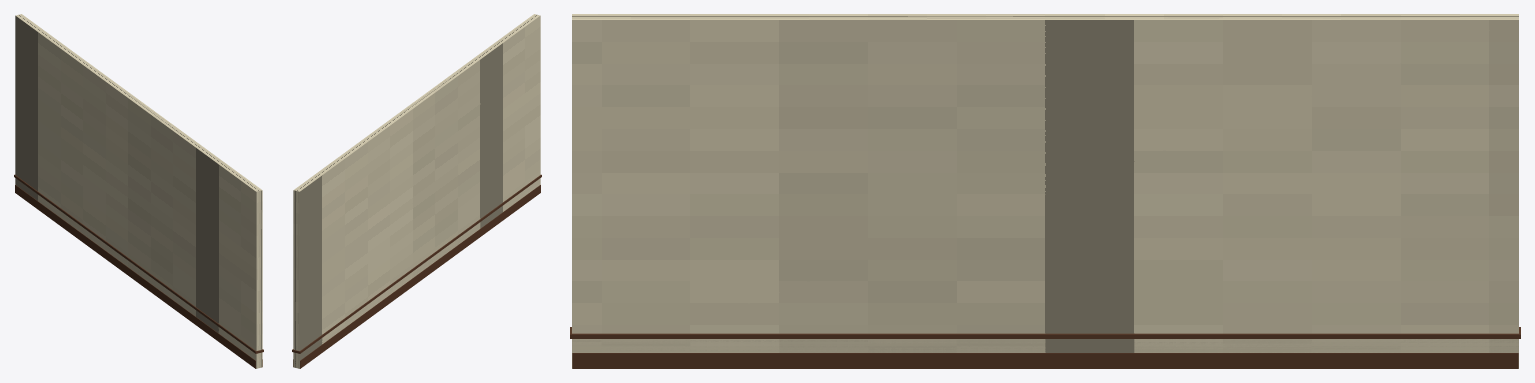
The model's file is wing_a.glb.
3 renders of one model, left to right at view 1: azimuth 30°, elevation 25°; view 2: azimuth 150°, elevation 25°; view 3: azimuth 270°, elevation 25°, orthographic. The views are drawn at different scales.
Parts seen in each view (by area): view 1: Box1, Box2, Box3, Box4; view 2: Box1, Box2, Box3, Box4; view 3: Box1, Box2, Box3, Box4.
Boxes of the visible parts, box(x1,y1,x2,y2) form: Box1: box(15, 14, 262, 368); Box2: box(15, 185, 262, 368); Box3: box(15, 179, 262, 367); Box4: box(14, 174, 263, 353); Box1: box(293, 14, 540, 368); Box2: box(293, 185, 540, 368); Box3: box(293, 179, 540, 368); Box4: box(292, 174, 541, 353); Box1: box(572, 14, 1518, 367); Box2: box(572, 353, 1518, 368); Box3: box(572, 339, 1518, 368); Box4: box(570, 327, 1520, 338).
Size of the model in its own units: 0.19 by 4 by 9.89.
Materials: 2 (1 with a texture image).
